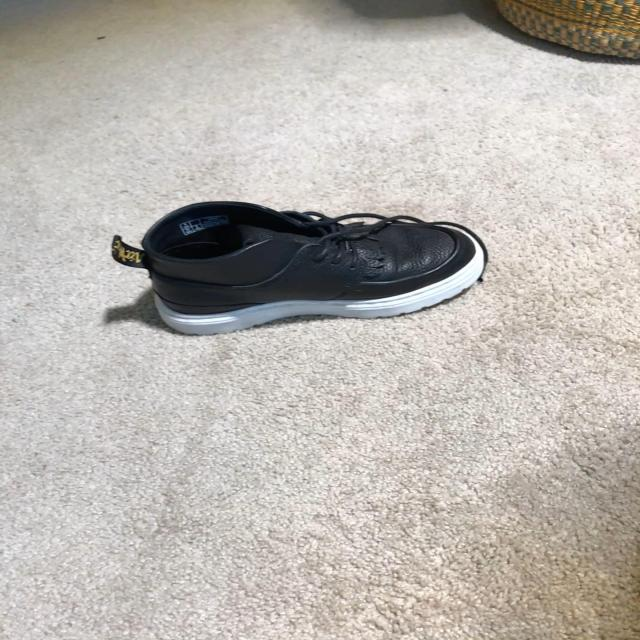shoe: (118, 201, 488, 336)
